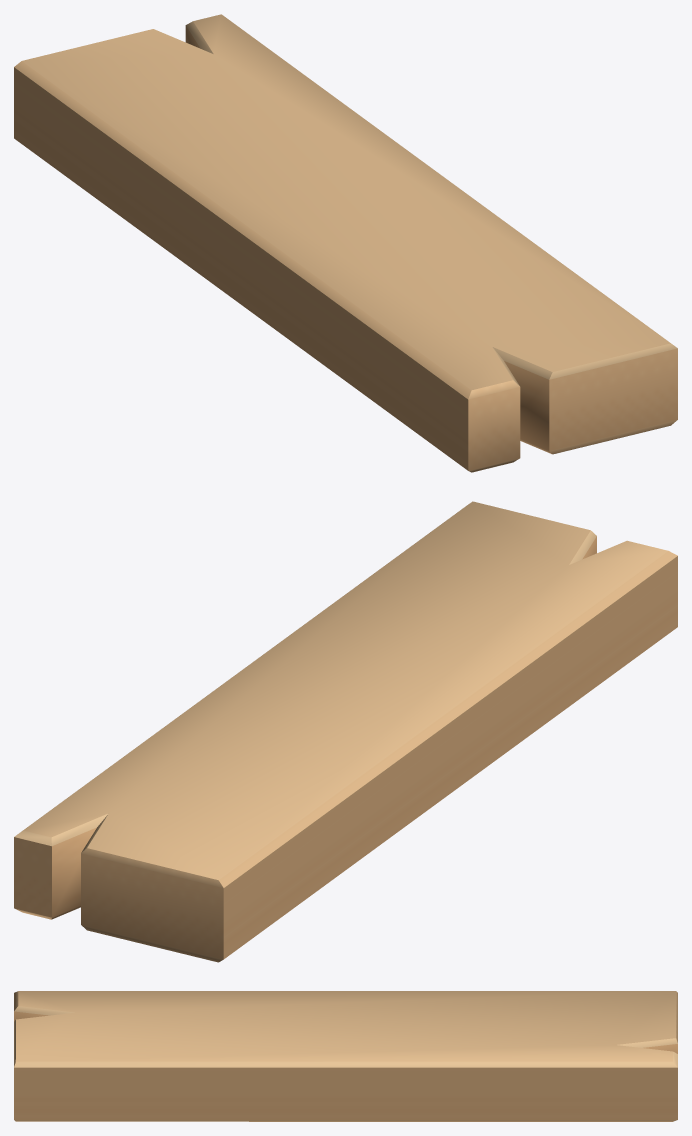
The model's file is Wood_Plank_C.gltf.
3 views of the same model, one above another, from view 1: azimuth 30°, elevation 25°; view 2: azimuth 150°, elevation 25°; view 3: azimuth 270°, elevation 25° (orthographic). The views are drawn at different scales.
Visible parts, largest first — view 1: Wood_Plank_C; view 2: Wood_Plank_C; view 3: Wood_Plank_C.
Part boxes in pixels (bbox=[...]): Wood_Plank_C: bbox=[14, 14, 677, 472]; Wood_Plank_C: bbox=[14, 501, 677, 962]; Wood_Plank_C: bbox=[14, 991, 677, 1121].
Bounding box in the file's own units: 0.4 × 0.15 × 1.5.
1 material, 1 textured.
